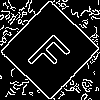F: (25, 25, 79, 79)
